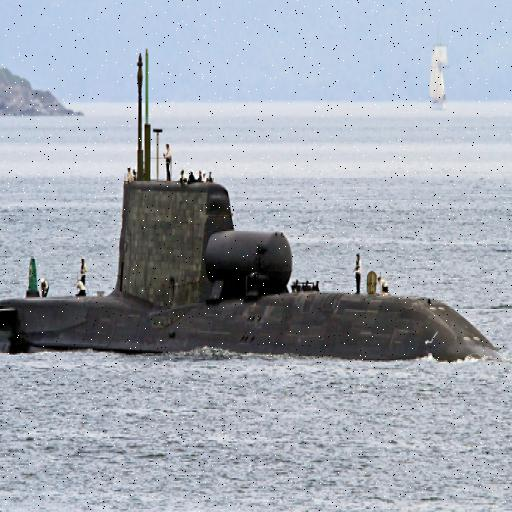submarine: (1, 182, 512, 351)
